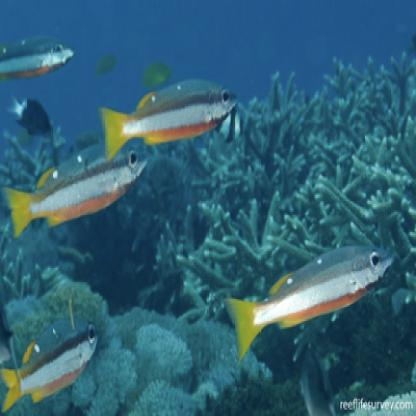Lutjanidae -Snappers-: (221, 232, 399, 366), (91, 71, 245, 165), (5, 140, 150, 235), (8, 308, 103, 414)
